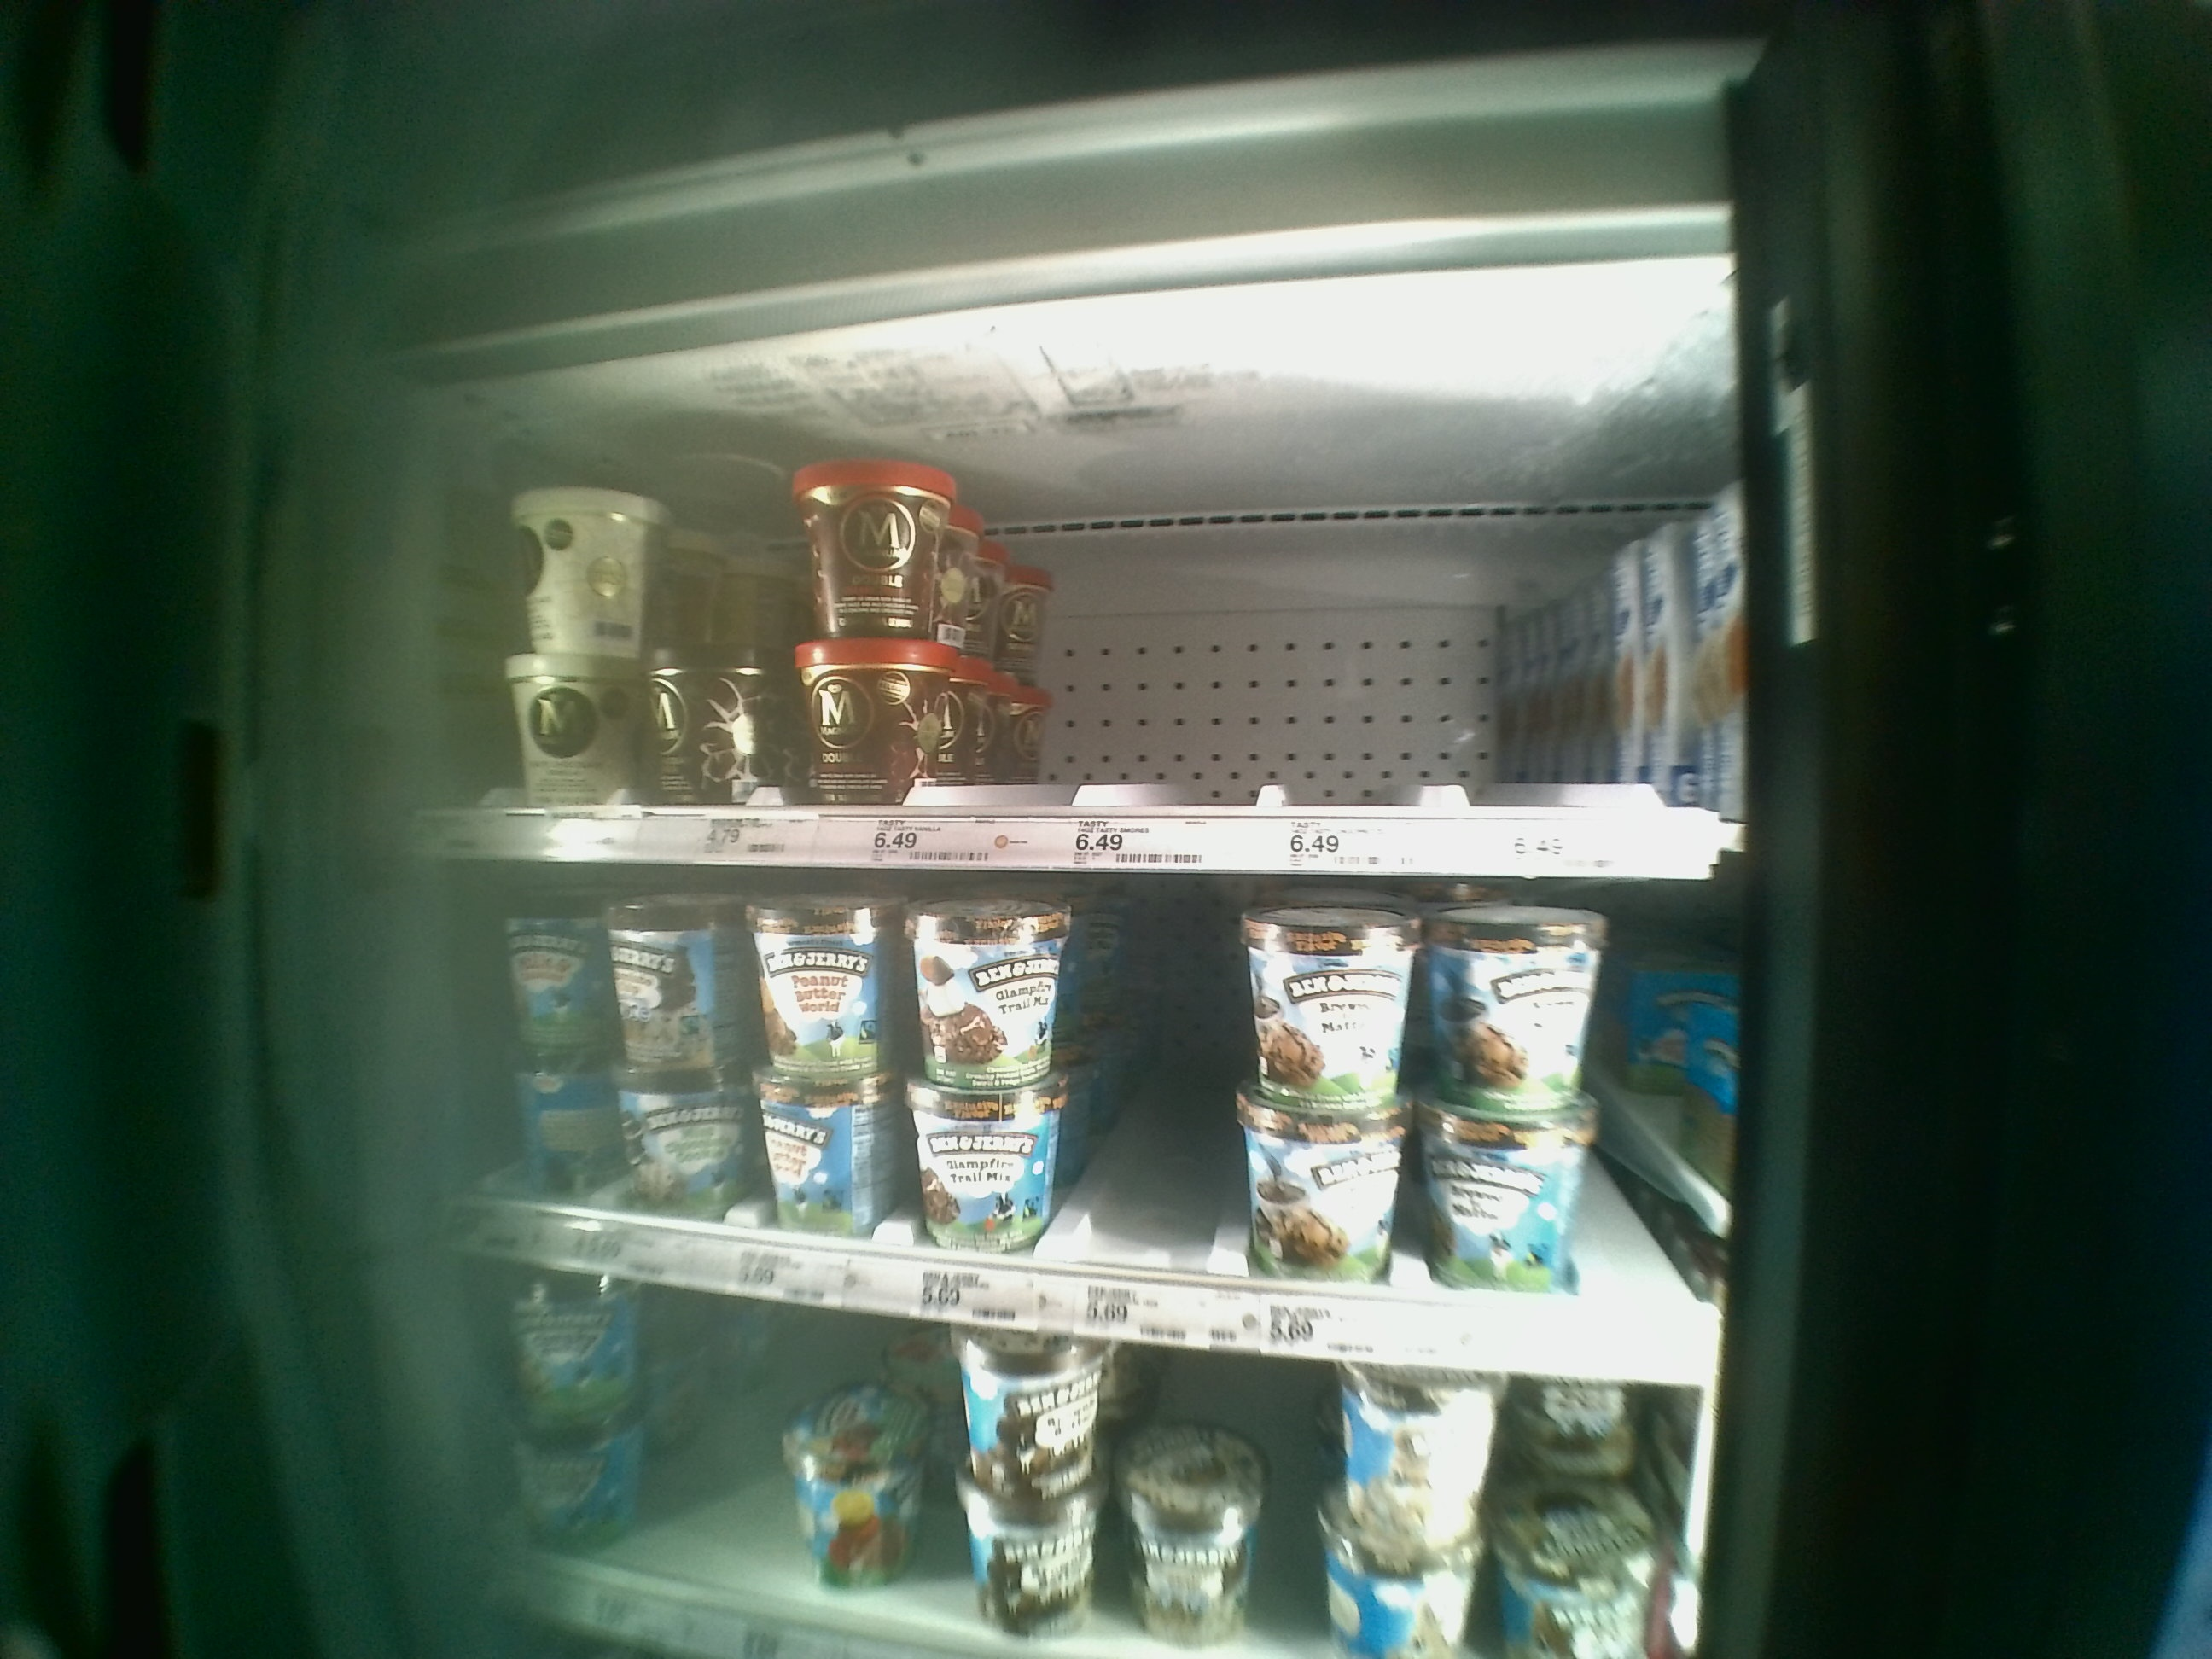ice-cream-shelf: (425, 864, 1721, 1385), (425, 375, 1726, 873)
